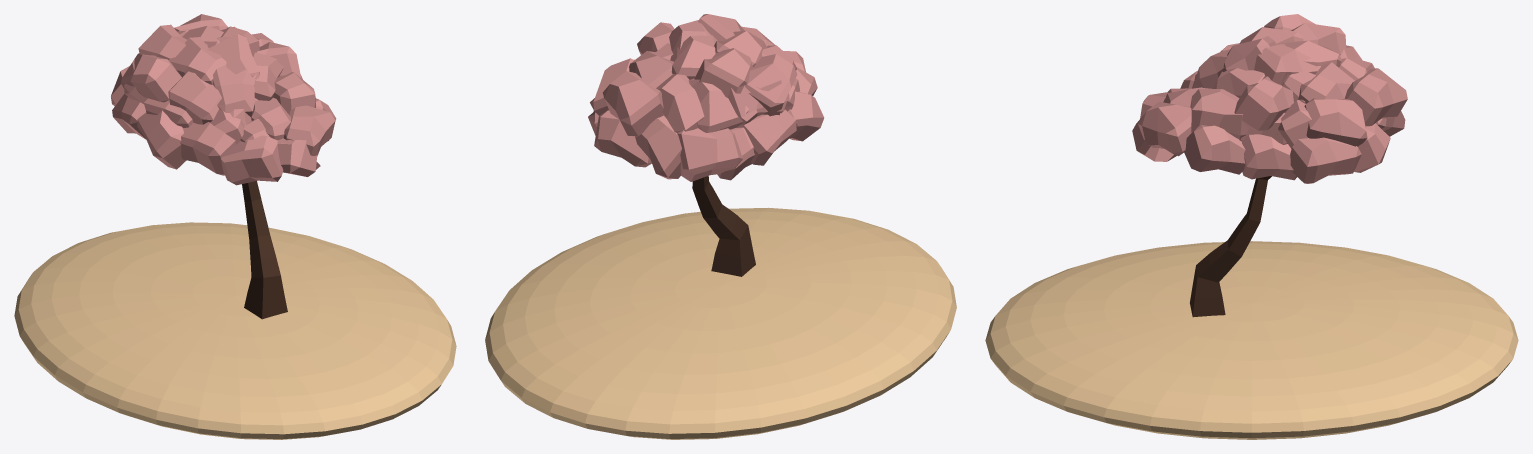
3 views of the same model, side by side, from view 1: azimuth 30°, elevation 25°; view 2: azimuth 150°, elevation 25°; view 3: azimuth 270°, elevation 25° (orthographic). The views are drawn at different scales.
Visible parts, largest first — view 1: Sphere, Cube.060; view 2: Sphere, Cube.060; view 3: Sphere, Cube.060.
Part boxes in pixels (x1,y1,x2,y2): Sphere: (14,222,456,439); Cube.060: (111,14,336,319); Sphere: (485,207,956,439); Cube.060: (588,14,824,276); Sphere: (985,241,1518,439); Cube.060: (1132,14,1407,317).
Bounding box in the file's own units: 16.99 × 14.71 × 20.74.
